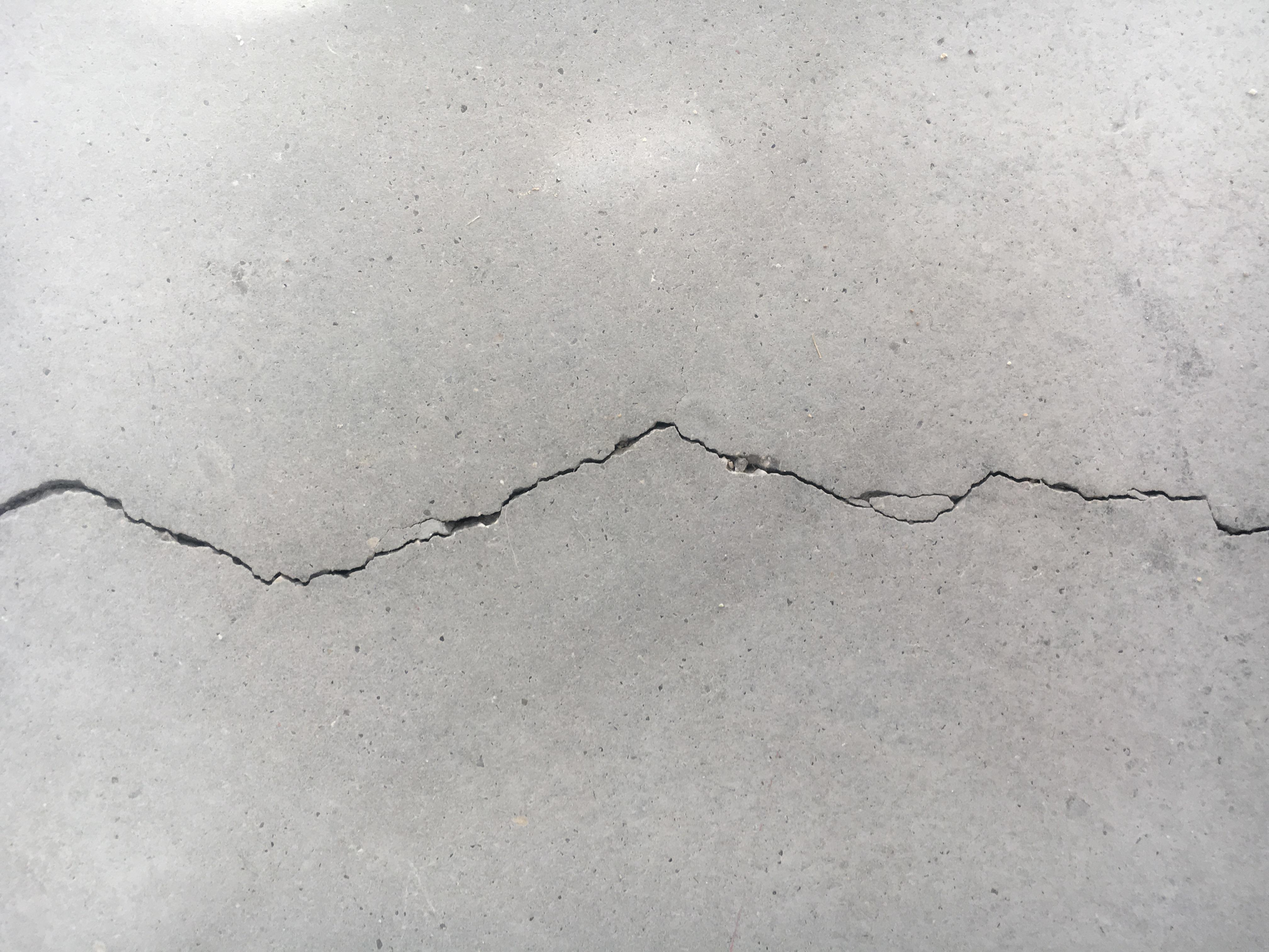Horizontal Settlement Crack: (3, 415, 1266, 591)
